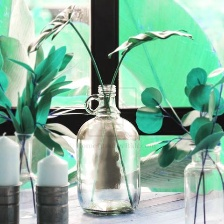bottle: (71, 80, 141, 216), (178, 141, 224, 224)
